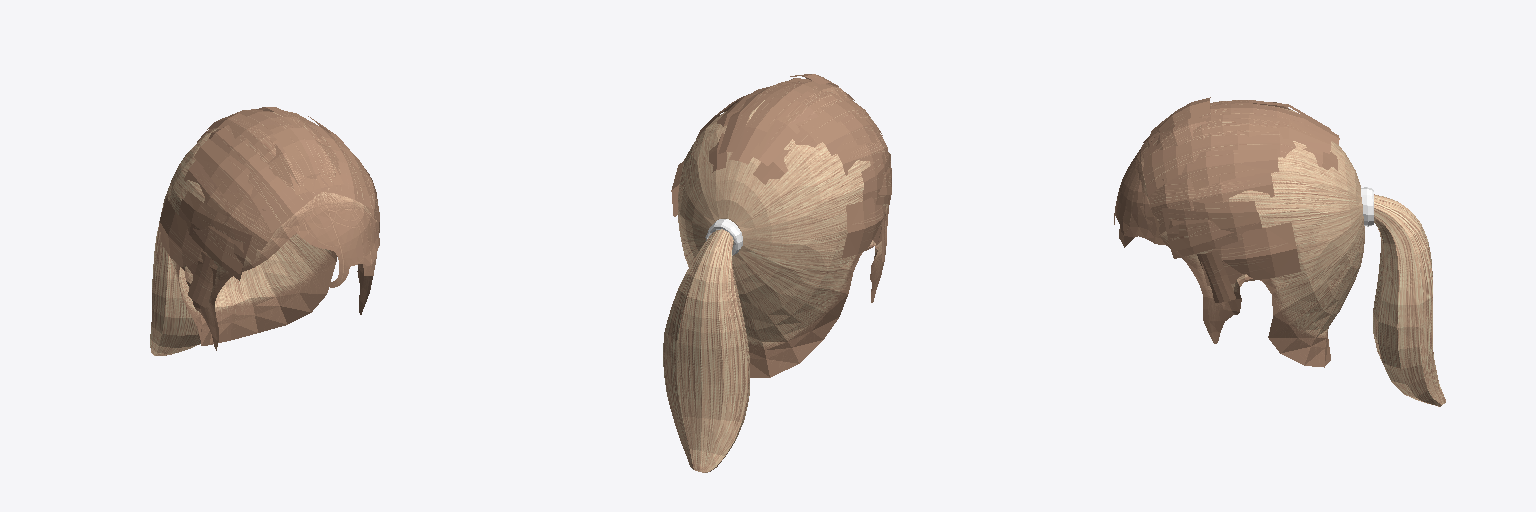
The picture shows the model from 3 angles: view 1: azimuth 30°, elevation 25°; view 2: azimuth 150°, elevation 25°; view 3: azimuth 270°, elevation 25°; orthographic projection.
Visible parts, largest first — view 1: hair_001; view 2: hair_001; view 3: hair_001.
Part boxes in pixels (left/top/right/bottom): hair_001: left=150, top=107, right=379, bottom=355; hair_001: left=663, top=74, right=891, bottom=472; hair_001: left=1114, top=97, right=1445, bottom=406.
Size of the model in its own units: 16.66 by 26.65 by 25.91.
4 materials, 1 textured.